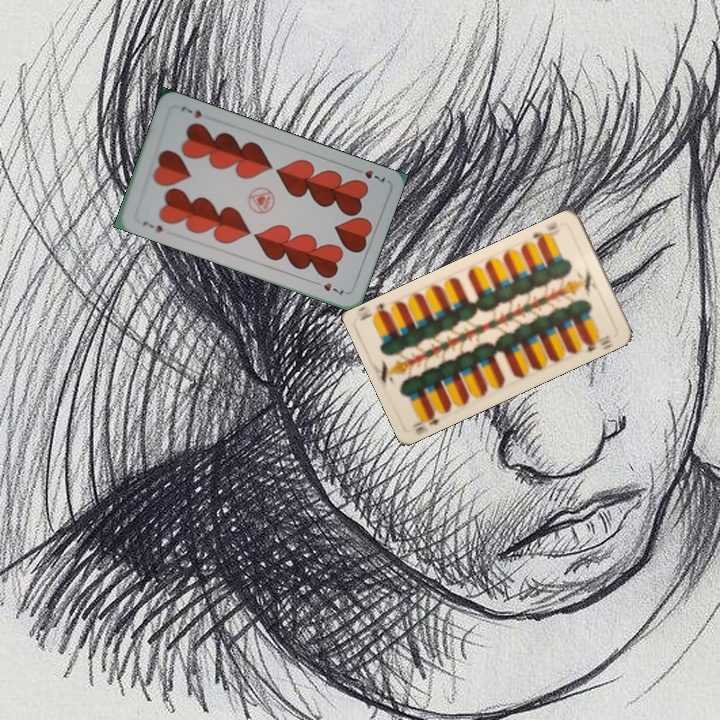E10: (408, 407, 443, 437), (528, 218, 560, 247)
H7: (350, 164, 388, 185), (138, 217, 166, 235)
